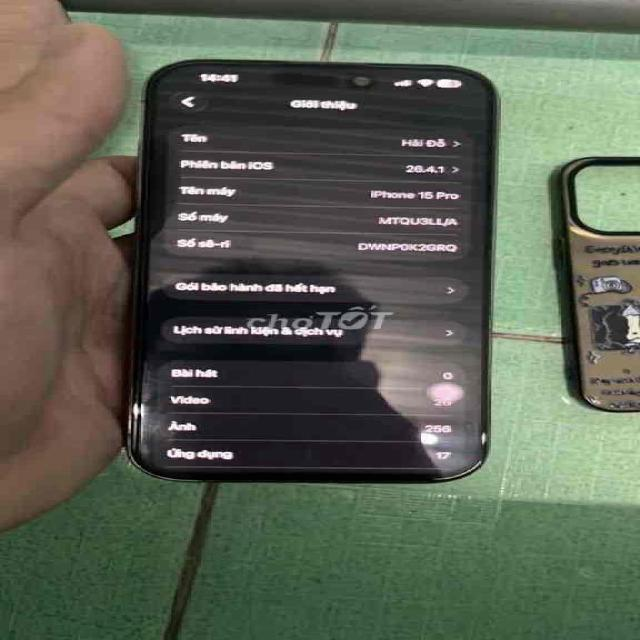gen_15: (114, 28, 518, 501)
